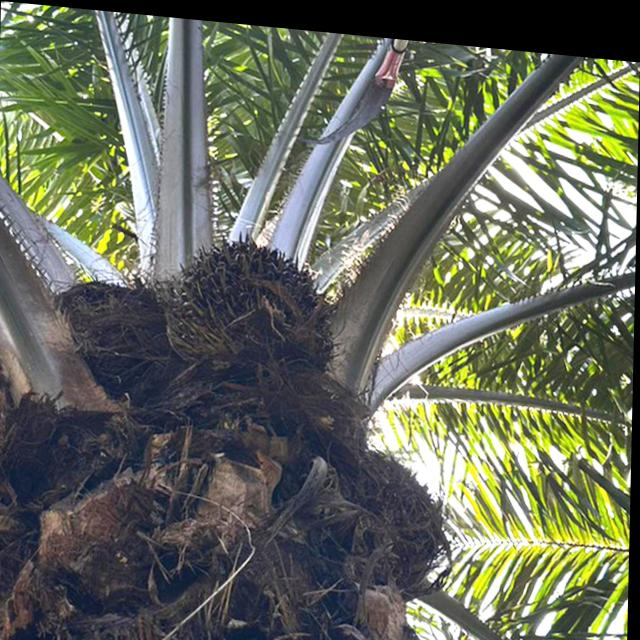unripe: (159, 214, 345, 391)
